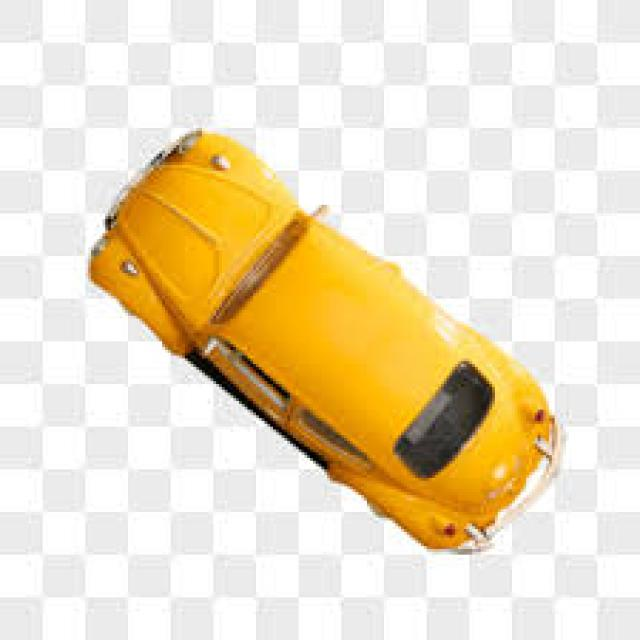Car: (88, 125, 566, 555)
